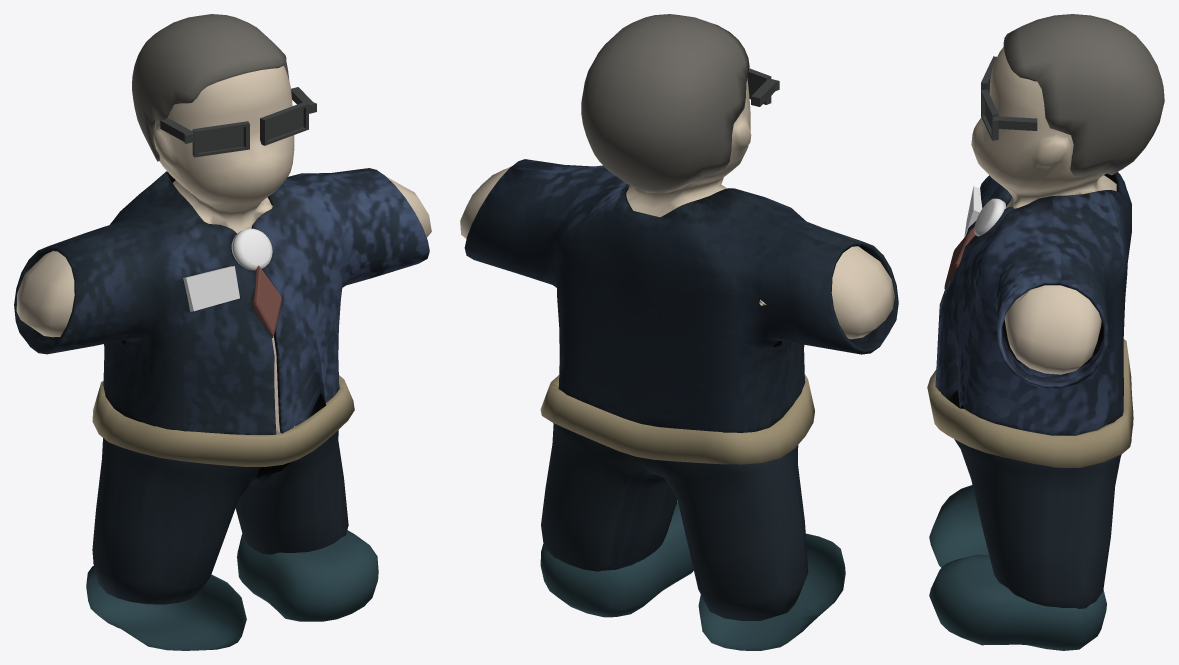
Rendered from SecurityMesh.fbx.
3 views of the same model, side by side, from view 1: azimuth 30°, elevation 25°; view 2: azimuth 150°, elevation 25°; view 3: azimuth 270°, elevation 25° (orthographic). The views are drawn at different scales.
Parts seen in each view (by area): view 1: Cube.017, Cube.022, Cube.018, Cube.019, Cube.021, Cube.020, Plane.005, Plane.006, Circle.001, Plane.003; view 2: Cube.017, Cube.022, Cube.021, Cube.019, Cube.020, Cube.018, Plane.005; view 3: Cube.017, Cube.022, Cube.021, Cube.018, Cube.019, Cube.020, Plane.005, Circle.001, Plane.003, Plane.006.
Boxes of the visible parts, box(x1,y1,x2,y2) form: Cube.017: box(14, 168, 429, 434); Cube.022: box(92, 430, 348, 604); Cube.018: box(16, 65, 431, 432); Cube.019: box(86, 530, 378, 650); Cube.021: box(132, 14, 289, 161); Cube.020: box(92, 375, 354, 466); Plane.005: box(160, 87, 316, 157); Plane.006: box(183, 266, 239, 311); Circle.001: box(231, 228, 272, 270); Plane.003: box(252, 265, 281, 338); Cube.017: box(464, 159, 898, 432); Cube.022: box(541, 423, 808, 620); Cube.021: box(581, 14, 749, 193); Cube.019: box(540, 501, 845, 650); Cube.020: box(540, 374, 814, 464); Cube.018: box(460, 78, 894, 339); Plane.005: box(747, 68, 779, 106); Cube.017: box(935, 172, 1131, 435); Cube.022: box(954, 439, 1121, 608); Cube.021: box(1003, 14, 1164, 176); Cube.018: box(940, 47, 1116, 392); Cube.019: box(929, 485, 1106, 650); Cube.020: box(927, 339, 1133, 467); Plane.005: box(981, 56, 1037, 140); Circle.001: box(974, 198, 1005, 236); Plane.003: box(944, 228, 975, 289); Plane.006: box(964, 186, 982, 236).
Size of the model in its own units: 161 by 226 by 83.07.
Materials: 7 (1 with a texture image).
